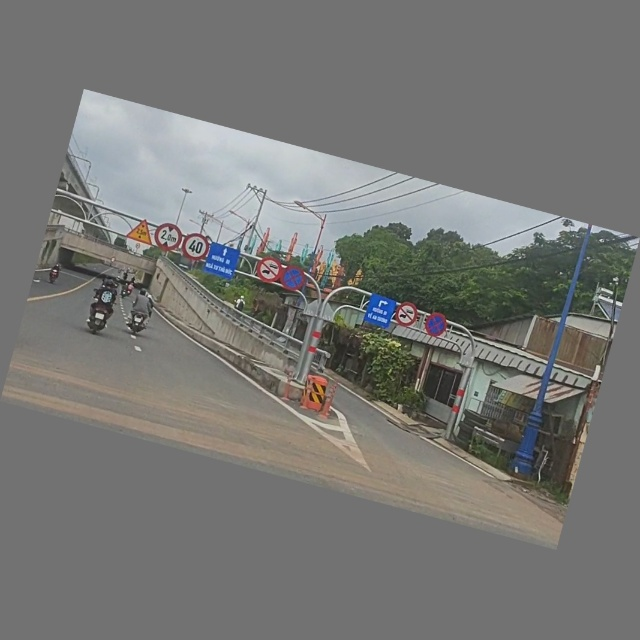P.107: (252, 254, 284, 286), (392, 299, 422, 331)
P.117*: (150, 220, 185, 254)
P.127*40: (180, 230, 212, 265)
P.130: (277, 262, 311, 295), (423, 311, 450, 340)
W.239b*: (125, 216, 157, 246)
